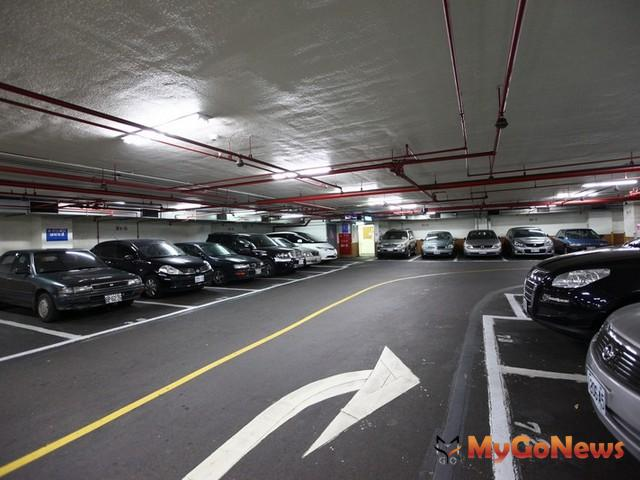car: (516, 239, 640, 339), (572, 289, 640, 467), (1, 242, 146, 325), (116, 238, 212, 299), (196, 239, 266, 285), (234, 232, 302, 266), (507, 223, 555, 262), (557, 222, 610, 256), (461, 224, 505, 262), (373, 224, 418, 261), (421, 227, 455, 265), (306, 236, 338, 255)
